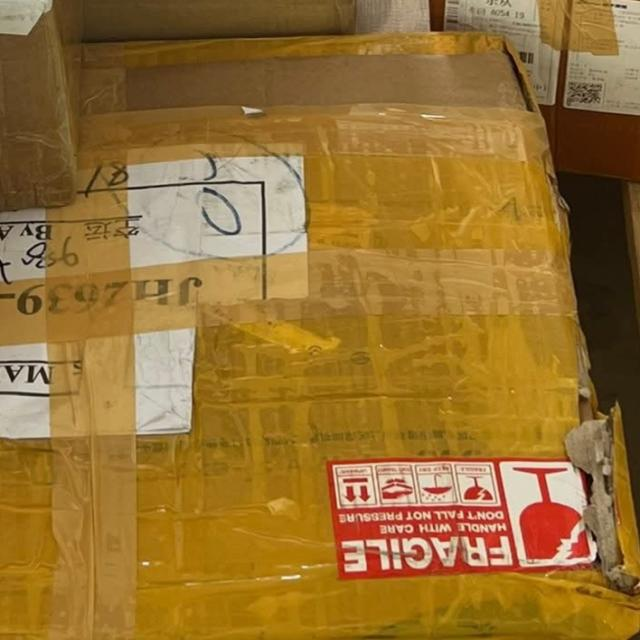carton_box: (0, 19, 640, 640)
fragile_label: (325, 521, 529, 593), (497, 452, 607, 580), (459, 462, 503, 516)
handle_with_care_label: (377, 468, 416, 509)
keep_dry_label: (418, 466, 461, 510)
package_damage: (543, 368, 640, 627)
this_side_up_label: (329, 466, 377, 511)
